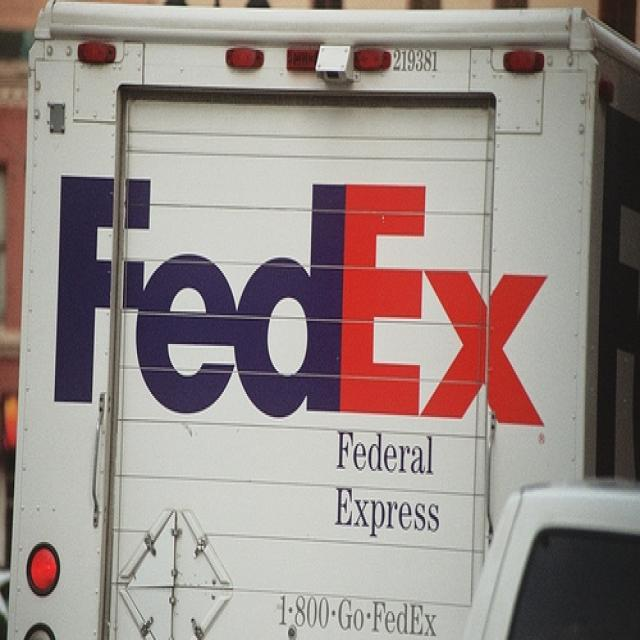fedex: (51, 176, 555, 431)
